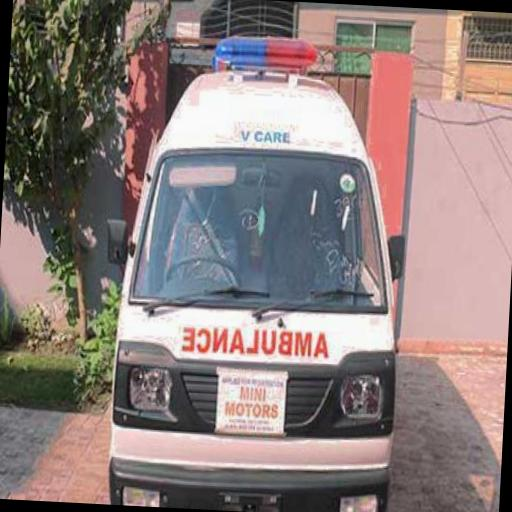Police car: (106, 29, 416, 512)
